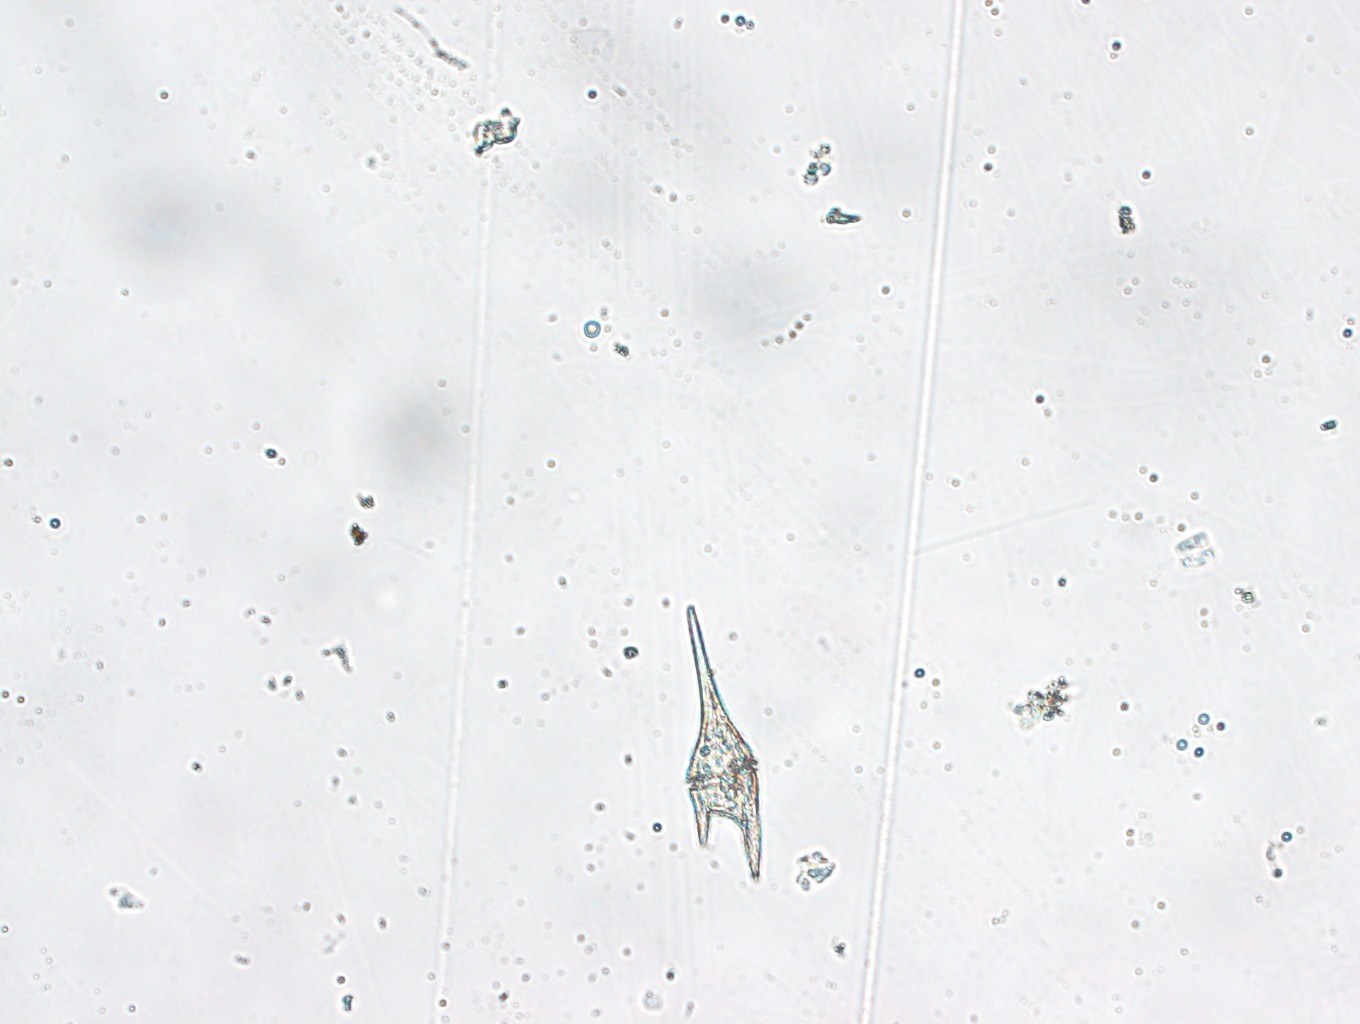ceratium furca: (684, 602, 759, 888)
